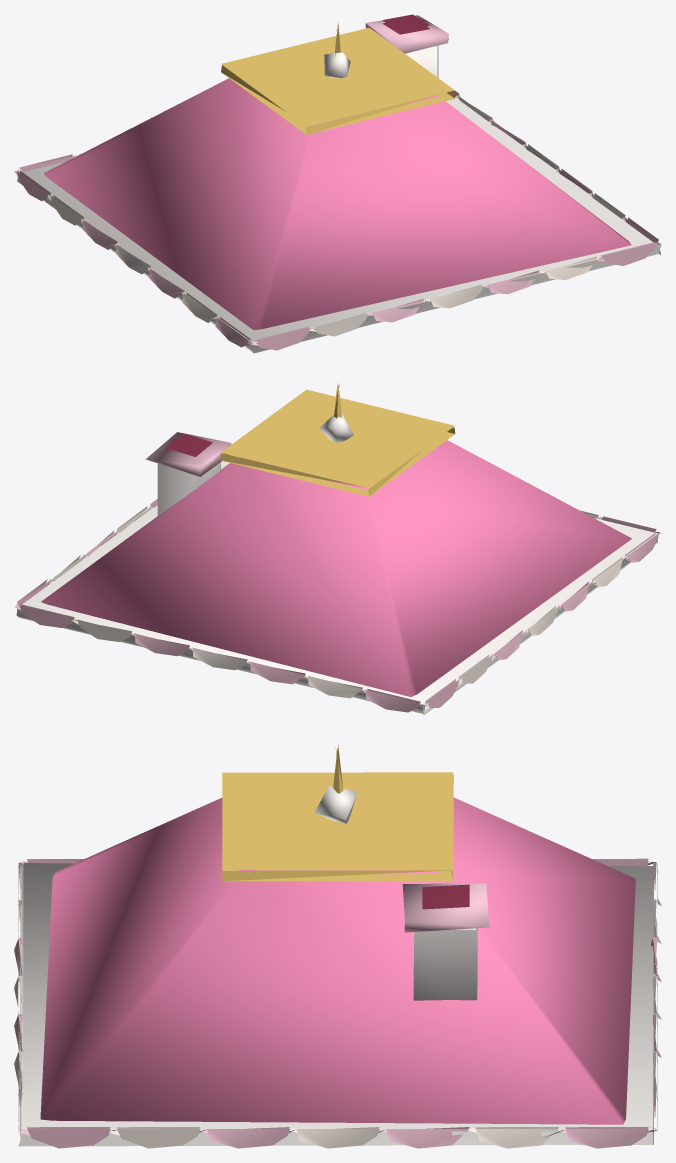
The model's file is lod_roof_pitched.glb.
3 renders of one model, top to bottom at view 1: azimuth 30°, elevation 25°; view 2: azimuth 150°, elevation 25°; view 3: azimuth 270°, elevation 25°, orthographic. The views are drawn at different scales.
Visible parts, largest first — view 1: roof_pitched; view 2: roof_pitched; view 3: roof_pitched.
Part boxes in pixels (<box>): roof_pitched: <box>14,14,661,353</box>; roof_pitched: <box>14,383,661,715</box>; roof_pitched: <box>14,745,661,1148</box>.
Bounding box in the file's own units: 9.6 × 4.4 × 9.6.
